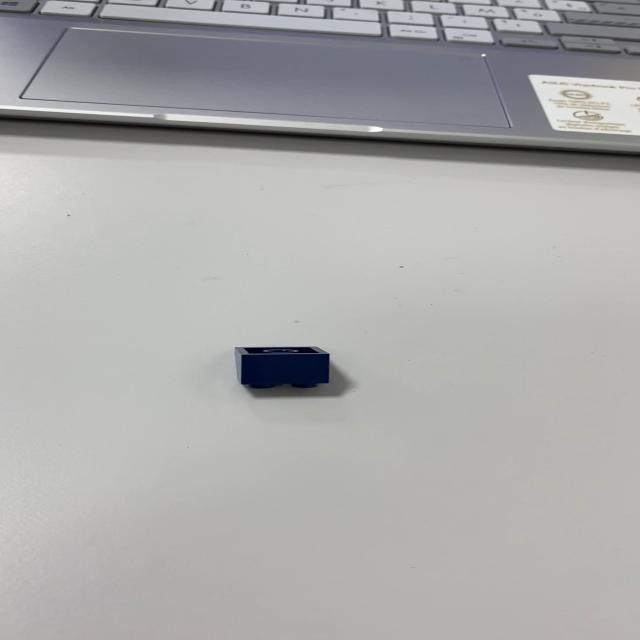P2x2x1: (233, 345, 330, 389)
